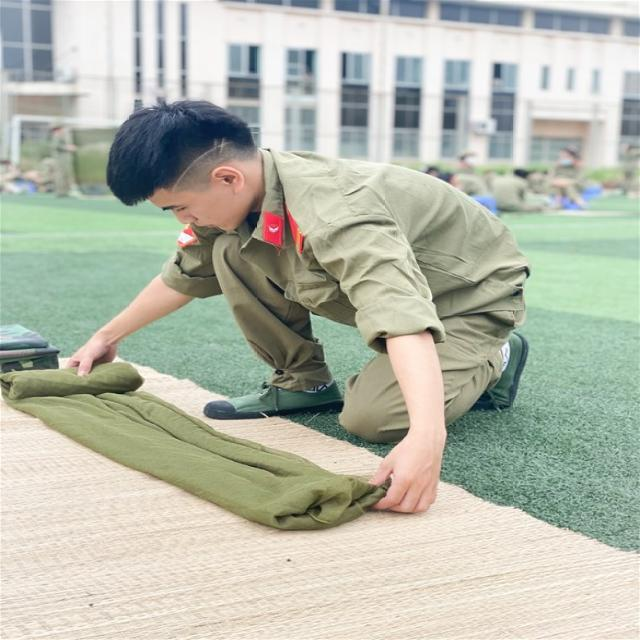no_helmet: (92, 89, 278, 246)
